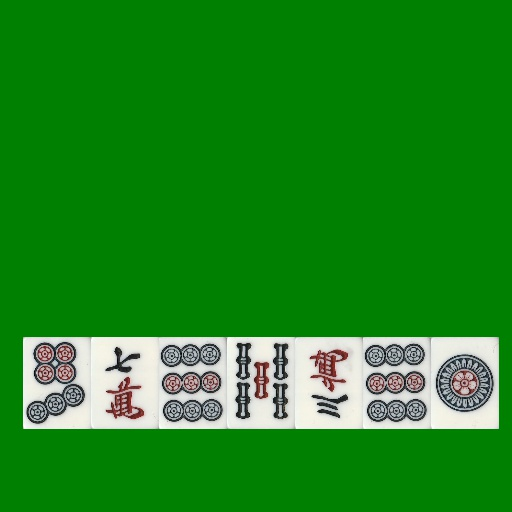1p: (431, 337, 499, 429)
3m: (295, 337, 363, 429)
5s: (227, 337, 295, 429)
7m: (91, 337, 159, 429)
7p: (23, 337, 91, 429)
9p: (159, 337, 227, 429), (363, 337, 431, 429)
